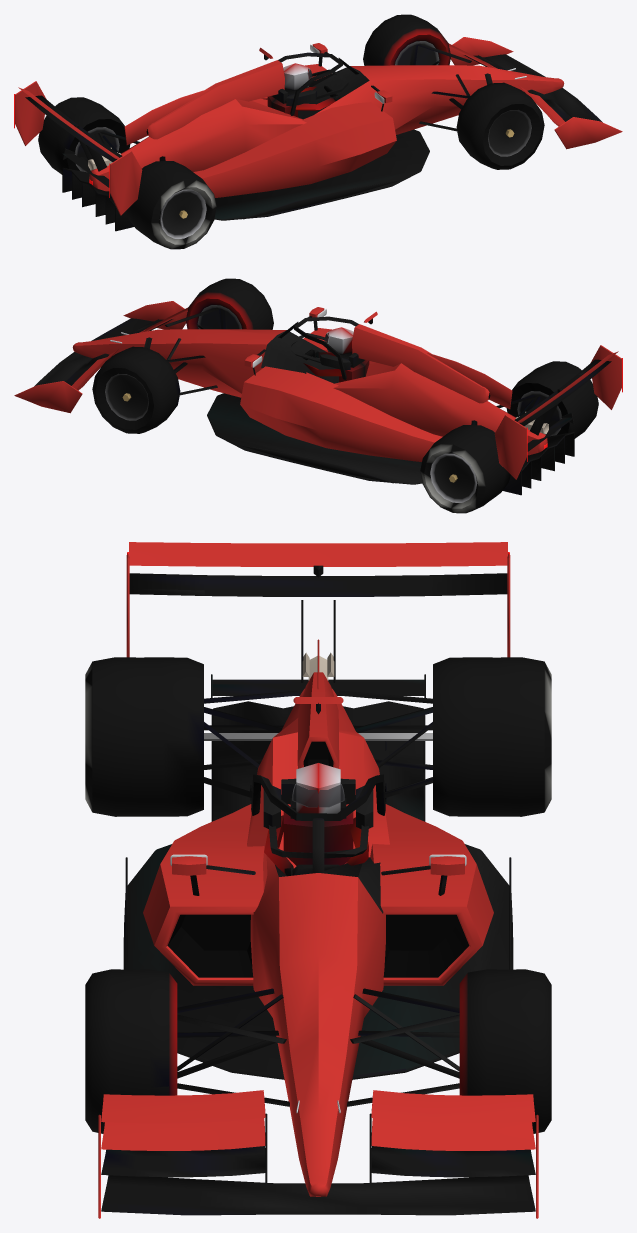
Rendered from tm_tempesta_race.glb.
3 renders of one model, top to bottom at view 1: azimuth 30°, elevation 25°; view 2: azimuth 150°, elevation 25°; view 3: azimuth 270°, elevation 25°, orthographic. The views are drawn at different scales.
Parts seen in each view (by area): view 1: body, tyre_FR, tyre_RR, tyre_RL, tyre_FL, rim_RR, rim_FR, driver, rim_FL, rim_RL; view 2: body, tyre_FL, tyre_RL, tyre_RR, tyre_FR, rim_RL, rim_FL, driver, rim_FR, rim_RR; view 3: body, tyre_RL, tyre_RR, tyre_FL, tyre_FR, driver.
Part boxes in pixels (x1,y1,x2,y2): body: [15, 37, 622, 231]; tyre_FR: [456, 82, 544, 169]; tyre_RR: [126, 161, 216, 249]; tyre_RL: [38, 97, 130, 174]; tyre_FL: [363, 14, 450, 65]; rim_RR: [159, 189, 206, 238]; rim_FR: [488, 109, 531, 156]; driver: [267, 63, 340, 117]; rim_FL: [395, 41, 439, 65]; rim_RL: [75, 127, 119, 172]; body: [14, 301, 621, 495]; tyre_FL: [92, 346, 180, 433]; tyre_RL: [420, 425, 510, 513]; tyre_RR: [506, 361, 598, 438]; tyre_FR: [186, 278, 273, 329]; rim_RL: [430, 453, 477, 502]; rim_FL: [105, 373, 148, 420]; driver: [303, 327, 369, 382]; rim_FR: [197, 305, 241, 329]; rim_RR: [517, 391, 561, 436]; body: [98, 542, 538, 1218]; tyre_RL: [433, 657, 551, 816]; tyre_RR: [85, 657, 203, 816]; tyre_FL: [459, 969, 551, 1133]; tyre_FR: [85, 969, 177, 1133]; driver: [264, 763, 368, 875].
Bounding box in the file's own units: 5.2 × 1.22 × 2.07.
